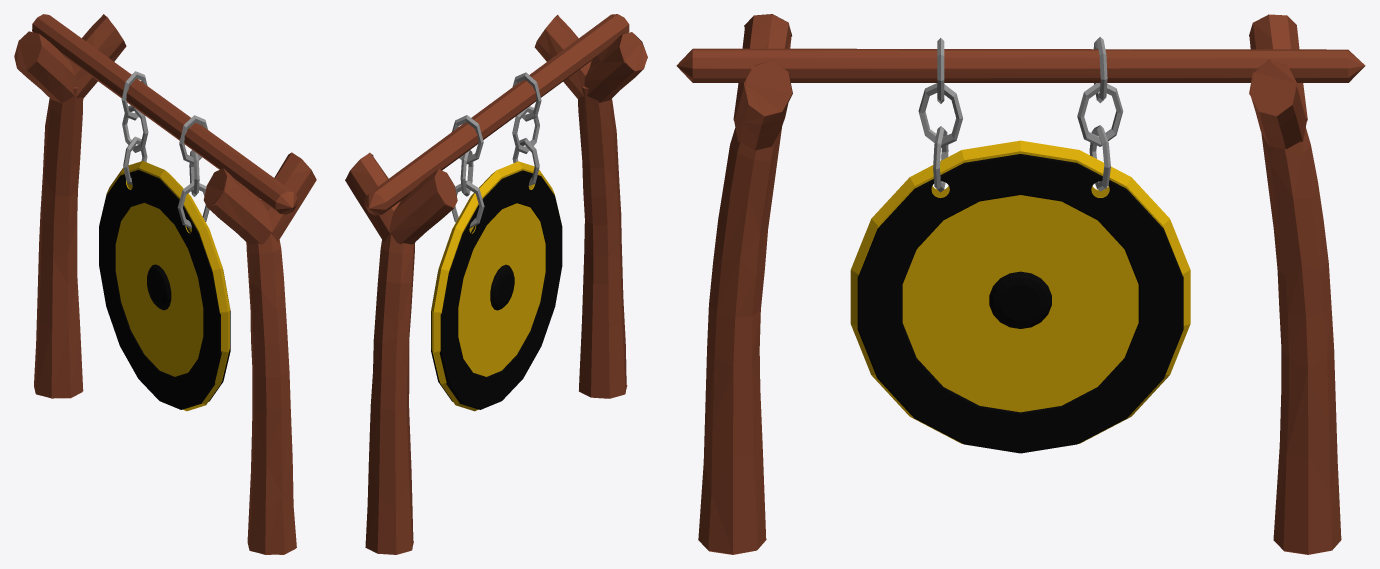
File: gong.fbx
The picture shows the model from 3 angles, left to right: view 1: azimuth 30°, elevation 25°; view 2: azimuth 150°, elevation 25°; view 3: azimuth 270°, elevation 25°; orthographic projection. The views are drawn at different scales.
Parts seen in each view (by area): view 1: Outer_drum, Base, Base_1, Drum_ring, TopBar, Stulp_1, Stulp_3, Stulp_2_2, Stulp_2, Inner_drum, Ring_2_3, Ring (+3 smaller); view 2: Outer_drum, Base_1, Base, Drum_ring, TopBar, Stulp_3, Stulp_1, Stulp_2, Stulp_2_2, Inner_drum, Ring_2, Ring_1_2 (+4 smaller); view 3: Outer_drum, Drum_ring, Base, Base_1, TopBar, Stulp_2_2, Stulp_2, Inner_drum, Stulp_3, Stulp_1, Ring_2_3, Ring_2.
Part boxes in pixels (x1,y1,x2,y2): Outer_drum: (106,161,230,411); Base: (246,233,296,554); Base_1: (34,86,83,398); Drum_ring: (99,170,230,409); TopBar: (32,14,297,214); Stulp_1: (203,168,272,244); Stulp_3: (14,31,75,103); Stulp_2_2: (261,152,316,241); Stulp_2: (69,14,126,98); Inner_drum: (147,264,171,310); Ring_2_3: (122,105,148,152); Ring: (177,181,209,228); Outer_drum: (431,161,554,411); Base_1: (365,233,415,554); Base: (578,86,627,398); Drum_ring: (431,170,562,409); TopBar: (364,14,629,215); Stulp_3: (389,169,457,244); Stulp_1: (584,32,647,102); Stulp_2: (345,152,400,241); Stulp_2_2: (534,15,592,98); Inner_drum: (490,264,514,310); Ring_2: (512,106,539,153); Ring_1_2: (452,115,483,164); Outer_drum: (850,140,1190,443); Drum_ring: (857,154,1183,453); Base: (698,127,781,554); Base_1: (1261,127,1341,554); TopBar: (676,48,1365,82); Stulp_2_2: (734,60,792,150); Stulp_2: (1249,60,1306,149); Inner_drum: (989,271,1051,328); Stulp_3: (1249,14,1307,120); Stulp_1: (733,14,791,120); Ring_2_3: (1077,83,1123,146); Ring_2: (918,83,962,147).
Size of the model in its own units: 71.67 by 242 by 300.
